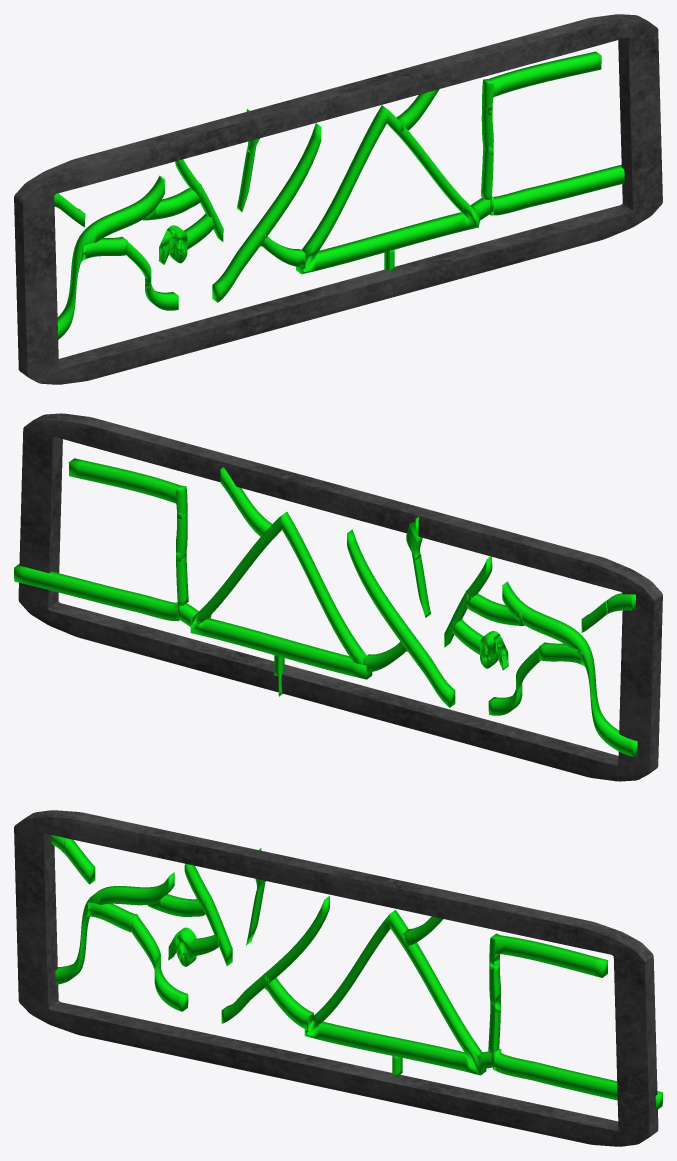
File: schild.glb
The picture shows the model from 3 angles, top to bottom: view 1: azimuth 30°, elevation 25°; view 2: azimuth 150°, elevation 25°; view 3: azimuth 330°, elevation 25°; orthographic projection.
Parts seen in each view (by area): view 1: Rahmen, Schrift; view 2: Rahmen, Schrift; view 3: Rahmen, Schrift.
Part boxes in pixels (left/top/right/bottom): Rahmen: left=14, top=14, right=662, bottom=384; Schrift: left=54, top=51, right=624, bottom=339; Rahmen: left=18, top=413, right=662, bottom=781; Schrift: left=14, top=458, right=637, bottom=757; Rahmen: left=14, top=810, right=658, bottom=1146; Schrift: left=51, top=835, right=662, bottom=1109.
Bounding box in the file's own units: 40.22 × 13.91 × 1.48.
2 materials, 2 textured.
